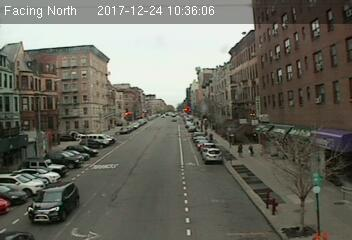car: (26, 181, 78, 221), (202, 146, 222, 163)
